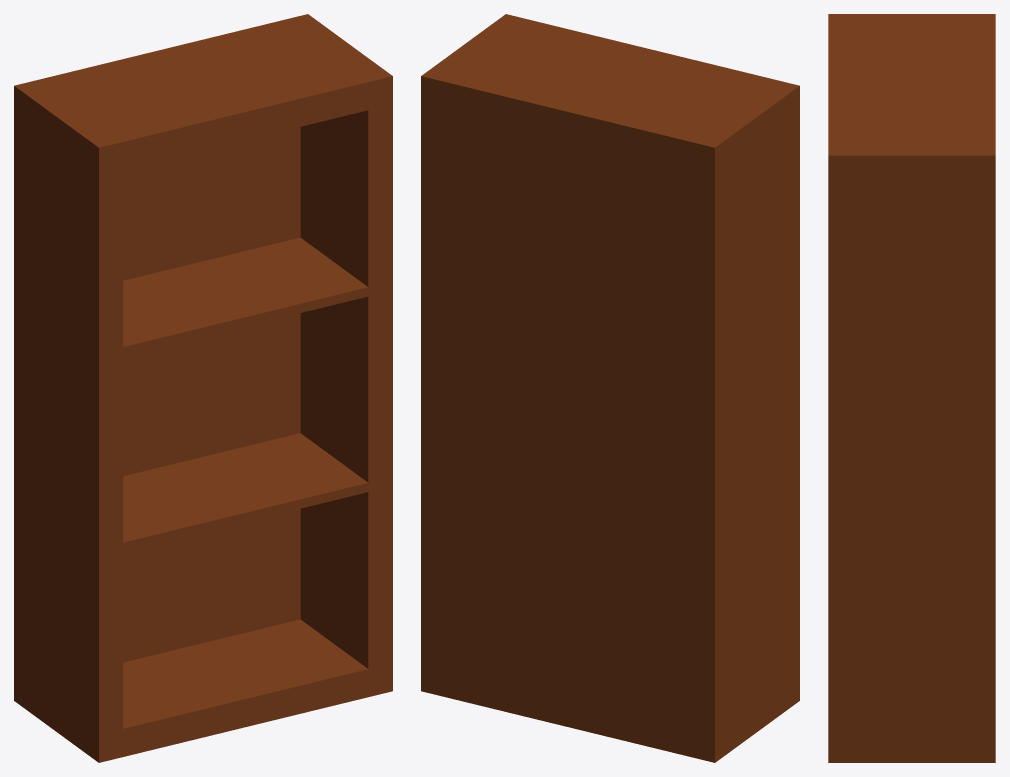
Rendered from etagere.fbx.
3 views of the same model, side by side, from view 1: azimuth 30°, elevation 25°; view 2: azimuth 150°, elevation 25°; view 3: azimuth 270°, elevation 25° (orthographic).
Parts seen in each view (by area): view 1: Cube; view 2: Cube; view 3: Cube.
Part boxes in pixels (bbox=[...]): Cube: bbox=[14, 14, 392, 762]; Cube: bbox=[421, 14, 799, 762]; Cube: bbox=[828, 14, 995, 762].
Bounding box in the file's own units: 400 × 800 × 200.
